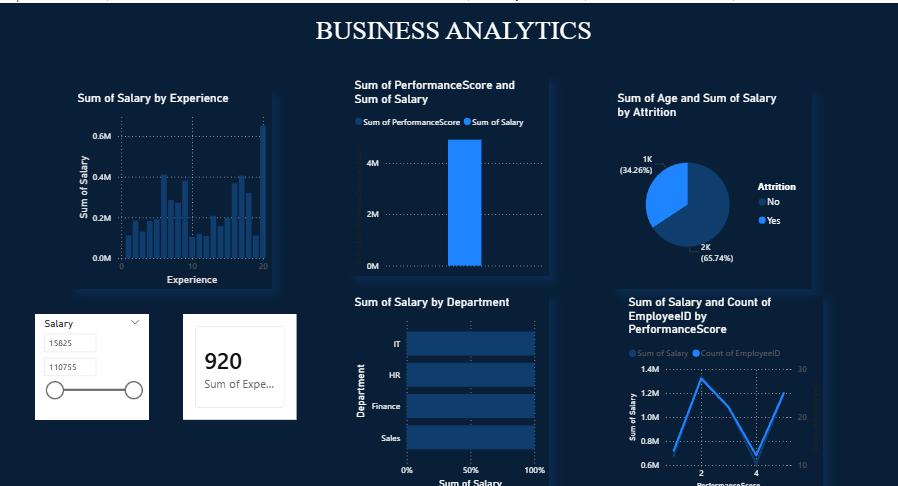

What the dashboard file says about the page in this screenshot:
{"tool":"powerbi","page":{"name":"Page 1","canvas":[1280,720],"ordinal":0},"visuals":[{"type":"columnChart","fields":{"Category":["HR_Data.Experience"],"Y":["Sum(HR_Data.Salary)"]},"box":[107.5,150,280,280],"z":0},{"type":"columnChart","fields":{"Y":["Sum(HR_Data.PerformanceScore)","Sum(HR_Data.Salary)"]},"box":[500,132.5,280,280],"z":1000},{"type":"pieChart","fields":{"Category":["HR_Data.Attrition"],"Y":["Sum(HR_Data.Age)"]},"box":[872.5,150,280,280],"z":3000},{"type":"hundredPercentStackedBarChart","fields":{"Category":["HR_Data.Department"],"Y":["Sum(HR_Data.Salary)"]},"box":[500,440,280,280],"z":4000},{"type":"lineChart","fields":{"Category":["HR_Data.PerformanceScore"],"Y":["Sum(HR_Data.Salary)"],"Y2":["CountNonNull(HR_Data.EmployeeID)"]},"box":[888.8,440,280,280],"z":5000},{"type":"textbox","box":[91.2,36.2,1017.5,71.2],"z":5001},{"type":"slicer","fields":{"Values":["HR_Data.Salary"]},"box":[52.5,466.2,161.2,150],"z":5002},{"type":"cardVisual","fields":{"Data":["Sum(HR_Data.Experience)"]},"box":[262.5,466.2,161.2,150],"z":5003}]}

Visuals, with their boxes on the page's 1280x720 design canvas (x1, y1, x2, y2). These are canvas units, not pixel positions in the 898x486 screenshot, which may show the page scaled, cropped or inside an application window:
columnChart - HR_Data.Experience x Sum(HR_Data.Salary): bbox=[108, 150, 388, 430]
columnChart - Sum(HR_Data.PerformanceScore) x Sum(HR_Data.Salary): bbox=[500, 132, 780, 412]
pieChart - HR_Data.Attrition x Sum(HR_Data.Age): bbox=[872, 150, 1152, 430]
hundredPercentStackedBarChart - HR_Data.Department x Sum(HR_Data.Salary): bbox=[500, 440, 780, 720]
lineChart - HR_Data.PerformanceScore x Sum(HR_Data.Salary): bbox=[889, 440, 1169, 720]
textbox: bbox=[91, 36, 1109, 107]
slicer - HR_Data.Salary: bbox=[52, 466, 214, 616]
cardVisual - Sum(HR_Data.Experience): bbox=[262, 466, 424, 616]
